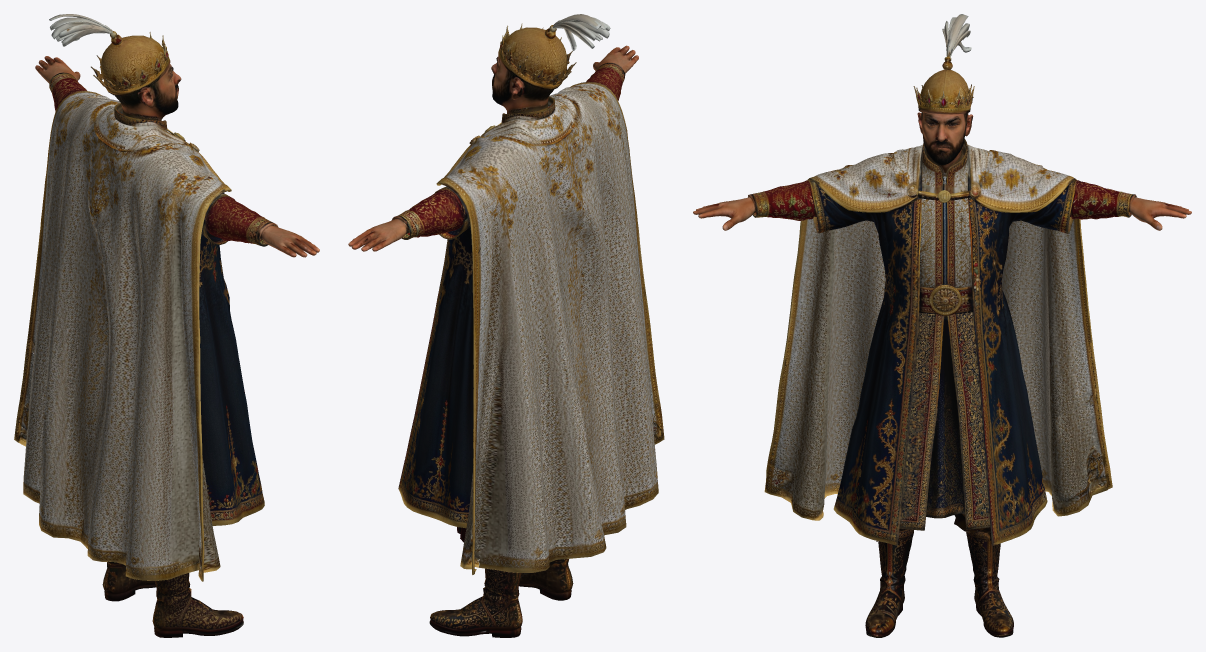
Rendered from king_model_standard.glb.
3 views of the same model, side by side, from view 1: azimuth 30°, elevation 25°; view 2: azimuth 150°, elevation 25°; view 3: azimuth 270°, elevation 25° (orthographic). The views are drawn at different scales.
Parts seen in each view (by area): view 1: tripo_part_12, tripo_part_9, tripo_part_59, tripo_part_55, tripo_part_13, tripo_part_1, tripo_part_52, tripo_part_6, tripo_part_25; view 2: tripo_part_12, tripo_part_9, tripo_part_59, tripo_part_13, tripo_part_55, tripo_part_1, tripo_part_52, tripo_part_6, tripo_part_25; view 3: tripo_part_12, tripo_part_9, tripo_part_25, tripo_part_13, tripo_part_59, tripo_part_55, tripo_part_1, tripo_part_6, tripo_part_52.
Boxes of the visible parts, <box> form: tripo_part_12: <box>14,91,231,581</box>; tripo_part_9: <box>199,235,264,525</box>; tripo_part_59: <box>91,31,170,601</box>; tripo_part_55: <box>152,225,319,637</box>; tripo_part_13: <box>49,72,277,246</box>; tripo_part_1: <box>115,64,181,120</box>; tripo_part_52: <box>49,14,113,46</box>; tripo_part_6: <box>35,56,80,83</box>; tripo_part_25: <box>114,103,167,131</box>; tripo_part_12: <box>436,82,664,574</box>; tripo_part_9: <box>398,227,480,528</box>; tripo_part_59: <box>429,23,576,637</box>; tripo_part_13: <box>391,62,625,239</box>; tripo_part_55: <box>519,45,638,600</box>; tripo_part_1: <box>491,57,553,113</box>; tripo_part_52: <box>552,14,610,50</box>; tripo_part_6: <box>348,219,463,251</box>; tripo_part_25: <box>501,96,555,123</box>; tripo_part_12: <box>764,144,1112,520</box>; tripo_part_9: <box>833,167,1047,546</box>; tripo_part_25: <box>899,139,990,530</box>; tripo_part_13: <box>748,180,1136,233</box>; tripo_part_59: <box>913,56,1013,637</box>; tripo_part_55: <box>693,197,913,637</box>; tripo_part_1: <box>917,112,973,179</box>; tripo_part_6: <box>1070,197,1191,230</box>; tripo_part_52: <box>942,14,971,56</box>.
Size of the model in its own units: 0.3239 by 1 by 0.8017.
18 materials, 18 textured.
